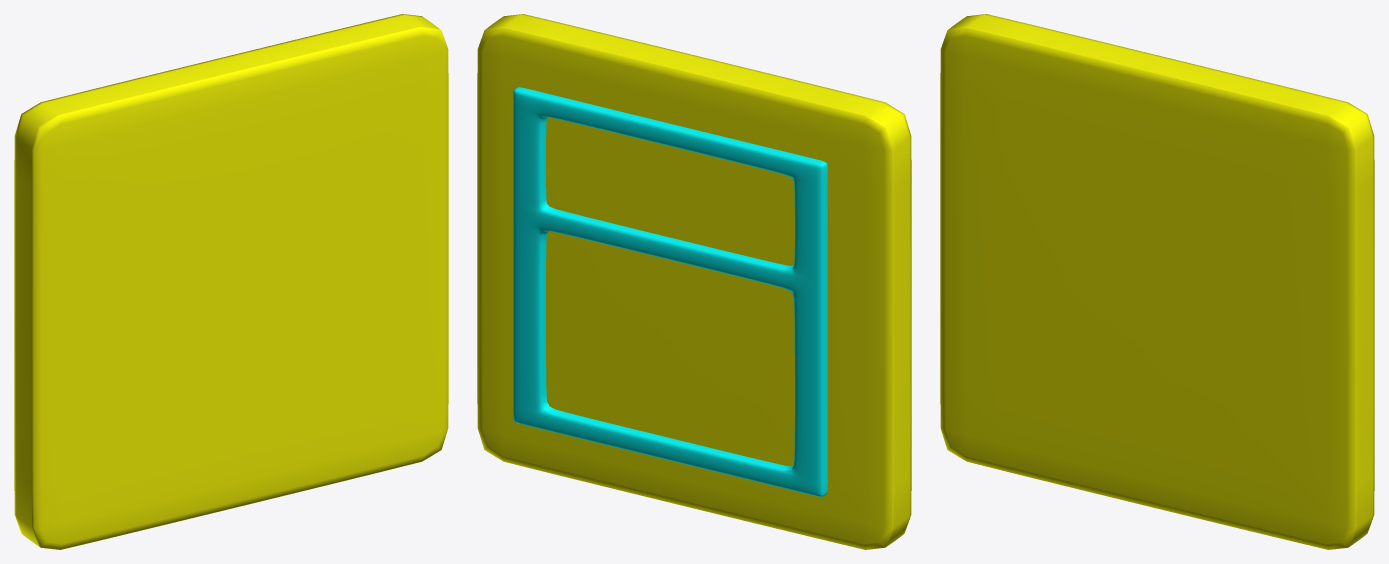
3 renders of one model, left to right at view 1: azimuth 30°, elevation 25°; view 2: azimuth 150°, elevation 25°; view 3: azimuth 330°, elevation 25°, orthographic.
Visible parts, largest first — view 1: polySurface1009; view 2: polySurface1009; view 3: polySurface1009.
Boxes of the visible parts, bbox=[...] form: polySurface1009: bbox=[14, 14, 448, 549]; polySurface1009: bbox=[477, 14, 911, 549]; polySurface1009: bbox=[940, 14, 1374, 549].
Bounding box in the file's own units: 0.9994 × 0.9994 × 0.121.
